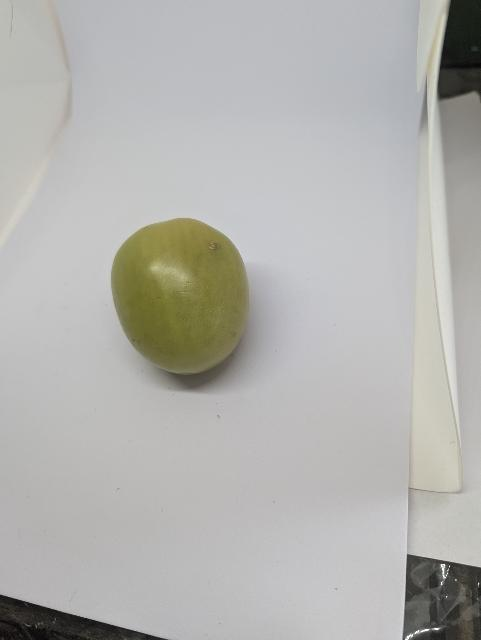breaker: (109, 216, 256, 385)
